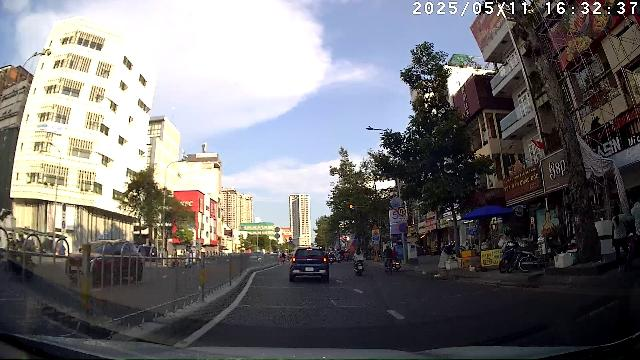124b-cam-oto-quay-dau-xe: (398, 207, 407, 216)
